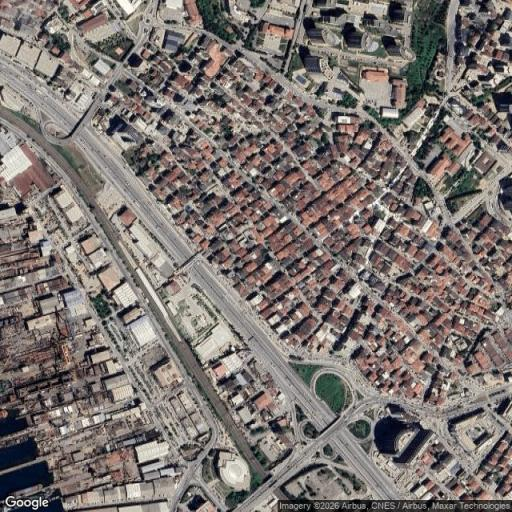ship: (10, 483, 44, 497), (1, 410, 9, 420)
